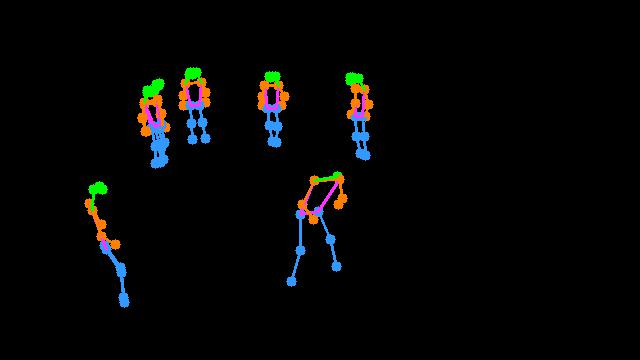normal: (74, 173, 149, 319), (130, 58, 219, 177), (244, 63, 301, 156)
